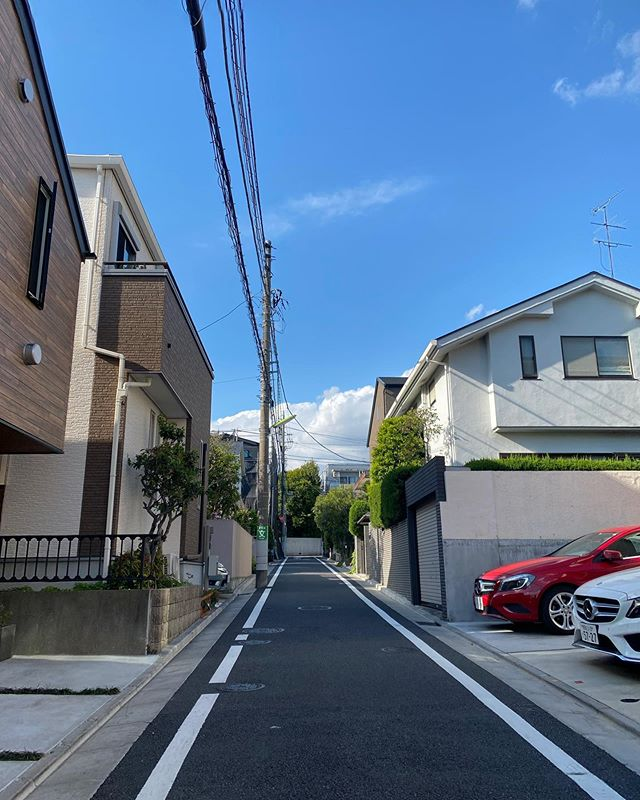building: (1, 1, 227, 756), (390, 278, 640, 626)
car: (462, 509, 640, 625)
sky: (51, 5, 640, 283)
street: (156, 541, 556, 800)
